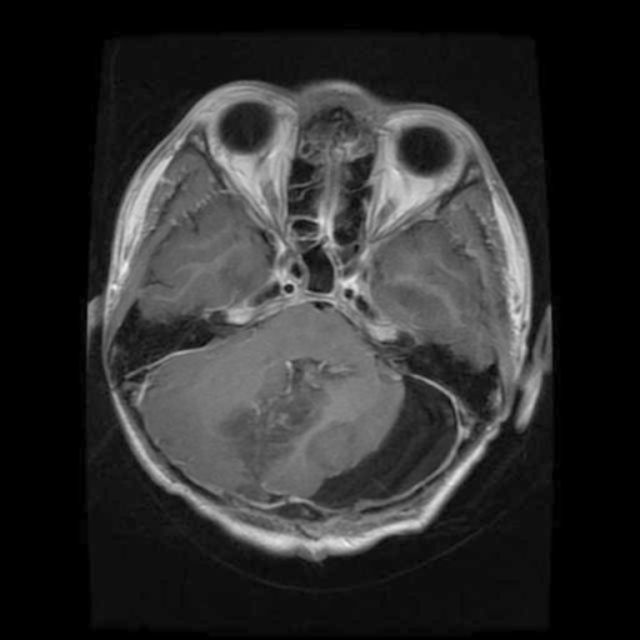pituitary tumor: (298, 418, 356, 477)
